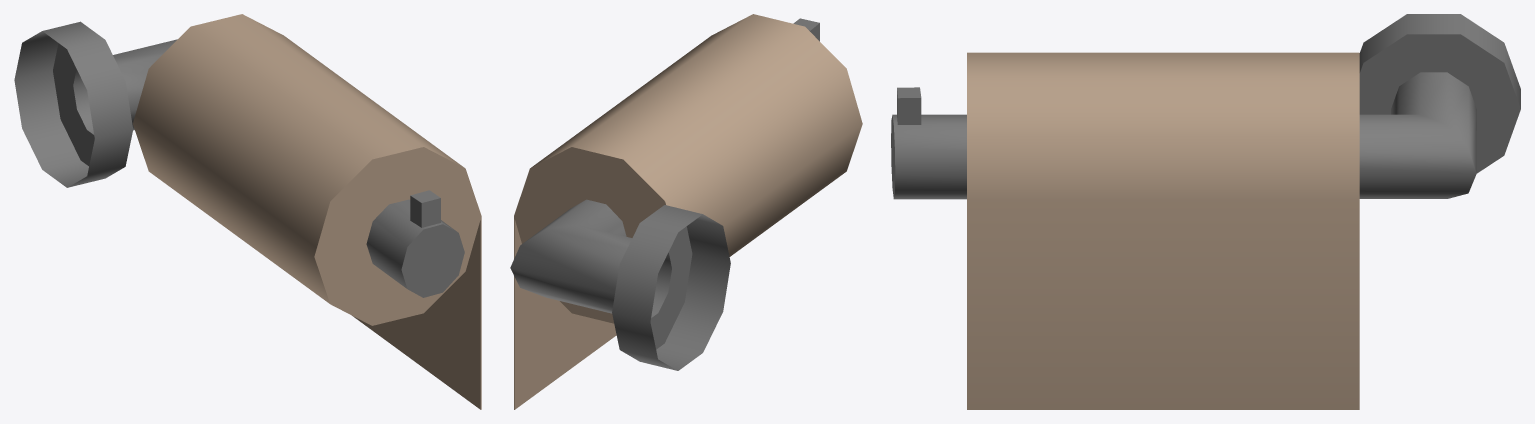
The model's file is S_ToiletPaper.fbx.
3 renders of one model, left to right at view 1: azimuth 30°, elevation 25°; view 2: azimuth 150°, elevation 25°; view 3: azimuth 270°, elevation 25°, orthographic. The views are drawn at different scales.
Visible parts, largest first — view 1: S_ToiletPaper; view 2: S_ToiletPaper; view 3: S_ToiletPaper.
Part boxes in pixels (bbox=[...]): S_ToiletPaper: bbox=[14, 14, 481, 409]; S_ToiletPaper: bbox=[510, 14, 862, 409]; S_ToiletPaper: bbox=[891, 14, 1520, 409].
Size of the model in its own units: 12.09 by 15.16 by 28.88.
